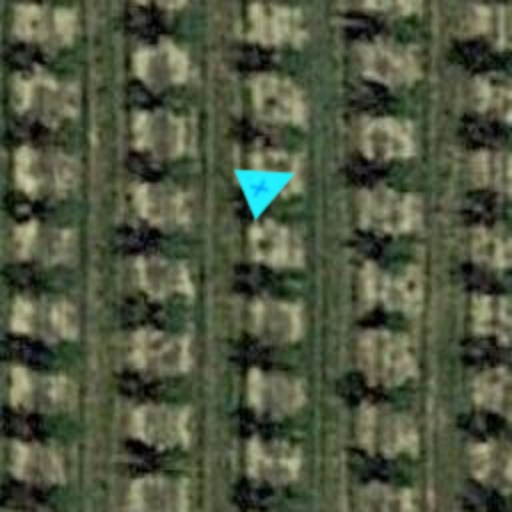triangle: (232, 146, 308, 222)
